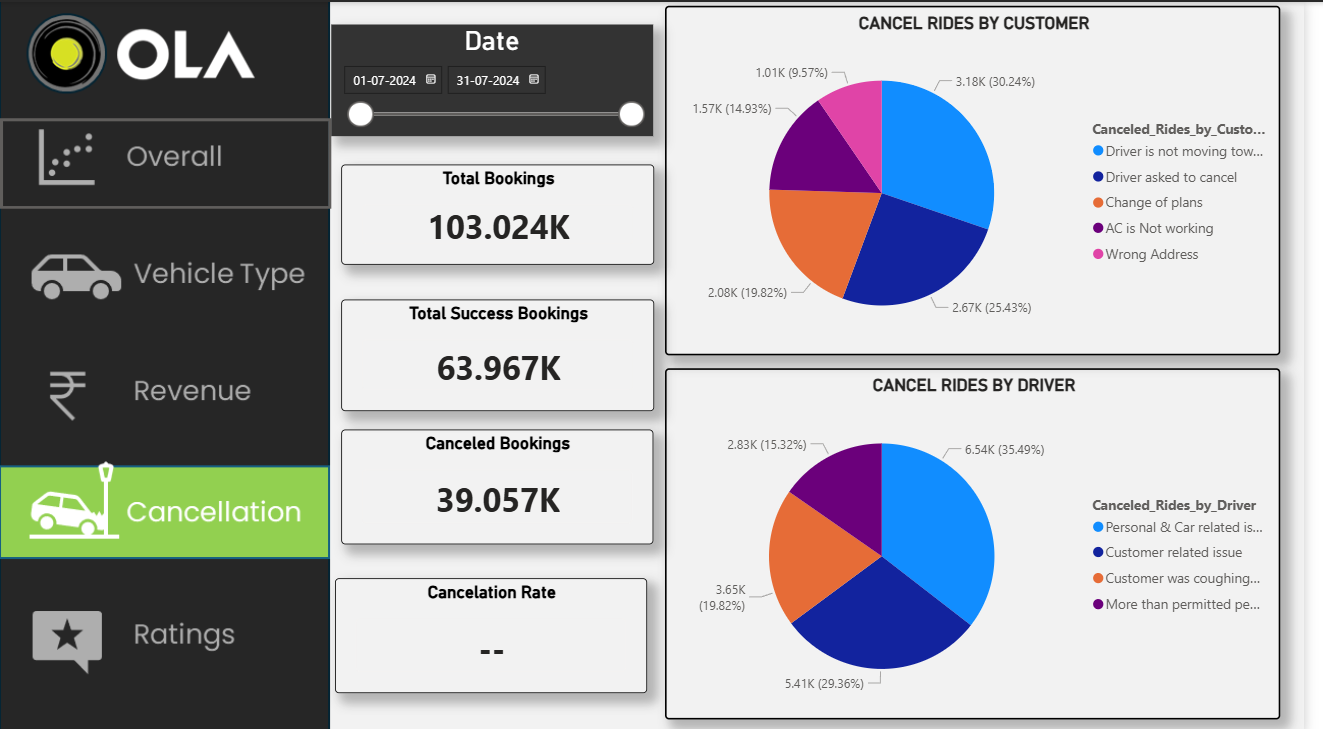

The page's visual inventory and layout, read from the dashboard file:
{"tool":"powerbi","page":{"name":"CANCELLATION","canvas":[1280,720],"ordinal":1},"visuals":[{"type":"actionButton","box":[0,225.8,325.2,93.3],"z":0},{"type":"actionButton","box":[0,333.7,325.2,92],"z":1000},{"type":"actionButton","box":[0,451.5,325.2,92],"z":2000},{"type":"actionButton","box":[0,582,325,97],"z":3000},{"type":"actionButton","box":[0,113.9,325.2,89.2],"z":4000},{"type":"pieChart","title":"CANCEL RIDES BY CUSTOMER","fields":{"Y":["CountNonNull(Bookings.Canceled_Rides_by_Customer)"],"Category":["Bookings.Canceled_Rides_by_Customer"]},"box":[652.8,3.7,603.7,343.6],"z":5000},{"type":"pieChart","title":"CANCEL RIDES BY DRIVER","fields":{"Y":["CountNonNull(Bookings.Canceled_Rides_by_Driver)"],"Category":["Bookings.Canceled_Rides_by_Driver"]},"box":[652.8,359.5,603.7,344.8],"z":6000},{"type":"slicer","title":"Date","fields":{"Values":["Bookings.Date.1"]},"box":[325.2,22,315.6,109.8],"z":7000},{"type":"cardVisual","title":"Total Bookings","fields":{"Data":["CountNonNull(Bookings.Booking_ID)"]},"box":[334.8,159.2,307.4,98.8],"z":8000},{"type":"cardVisual","title":"Total Success Bookings","fields":{"Data":["CountNonNull(Bookings.Booking_ID)"]},"box":[334.8,292.3,307.4,109.8],"z":9000},{"type":"cardVisual","title":"Canceled Bookings","fields":{"Data":["CountNonNull(Bookings.Booking_ID)"]},"box":[334.8,419.9,306,112.5],"z":10000},{"type":"cardVisual","title":"Cancelation Rate","fields":{"Data":["Bookings.Cancellation"]},"box":[329.3,565.9,306.5,112.6],"z":11000}]}

Visuals, with their boxes on the page's 1280x720 design canvas (x1, y1, x2, y2). These are canvas units, not pixel positions in the 1323x729 screenshot, which may show the page scaled, cropped or inside an application window:
actionButton: 0/226/325/319
actionButton: 0/334/325/426
actionButton: 0/452/325/544
actionButton: 0/582/325/679
actionButton: 0/114/325/203
"CANCEL RIDES BY CUSTOMER" pieChart: 653/4/1256/347
"CANCEL RIDES BY DRIVER" pieChart: 653/360/1256/704
"Date" slicer: 325/22/641/132
"Total Bookings" cardVisual: 335/159/642/258
"Total Success Bookings" cardVisual: 335/292/642/402
"Canceled Bookings" cardVisual: 335/420/641/532
"Cancelation Rate" cardVisual: 329/566/636/678
